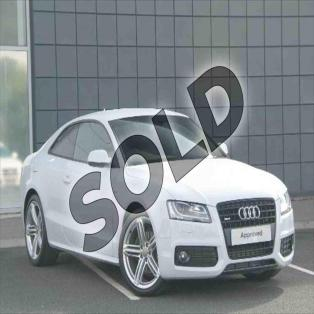Auto: (21, 109, 297, 298)
